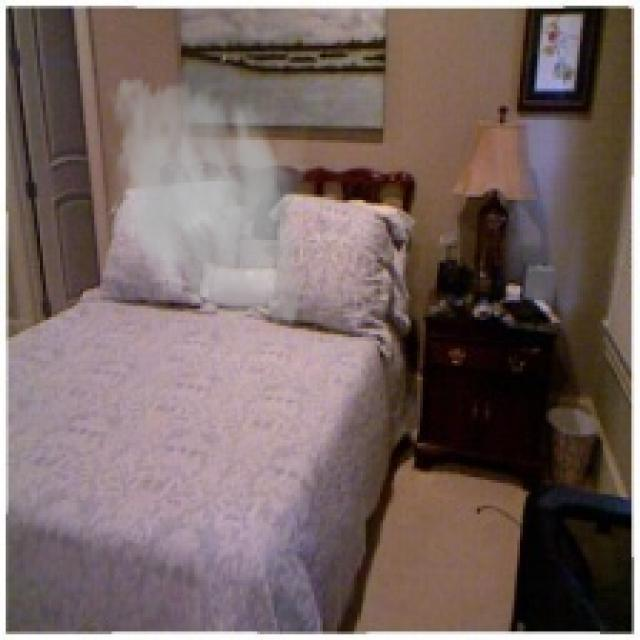Smoke: (97, 66, 323, 337)
